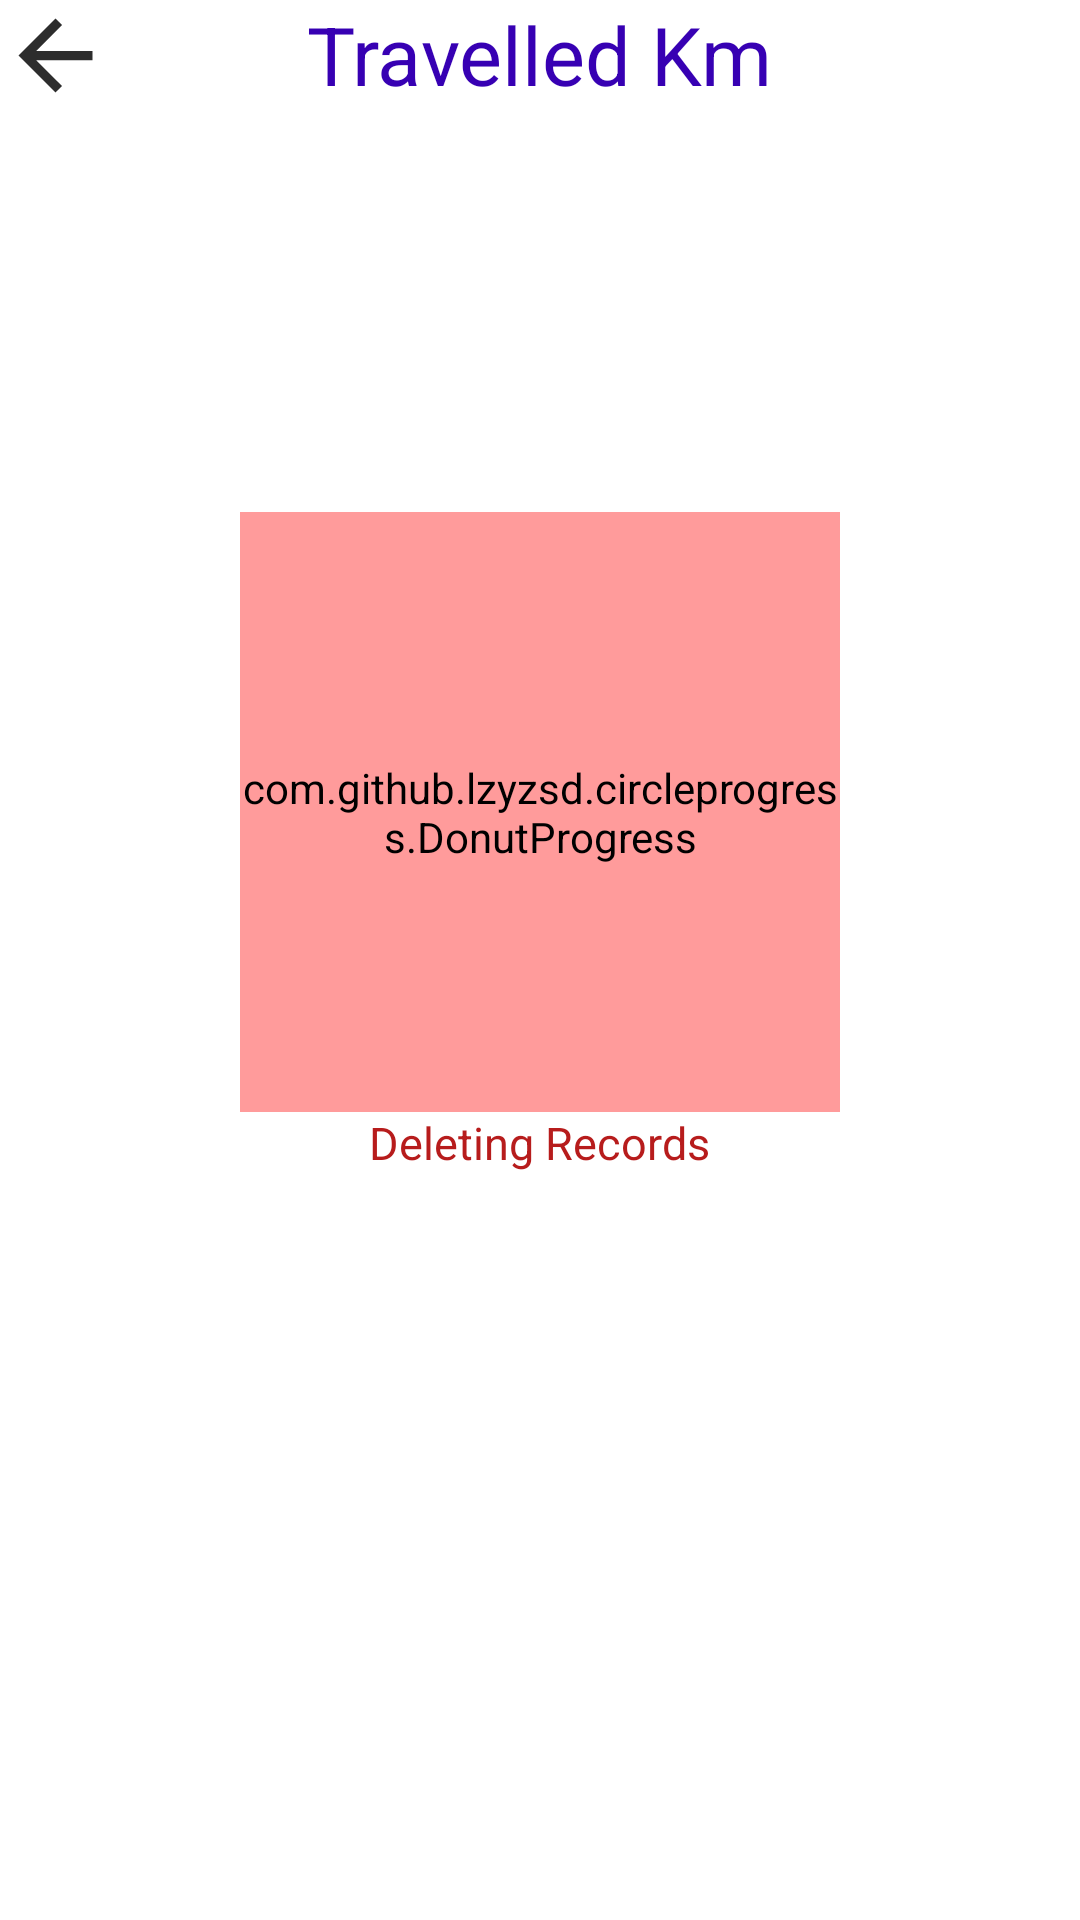

Icons on this 1080px x 1920px Android screen, each with its box as box=[x1, y1, x2, y2]:
backarrow: box=[18, 18, 93, 93]
